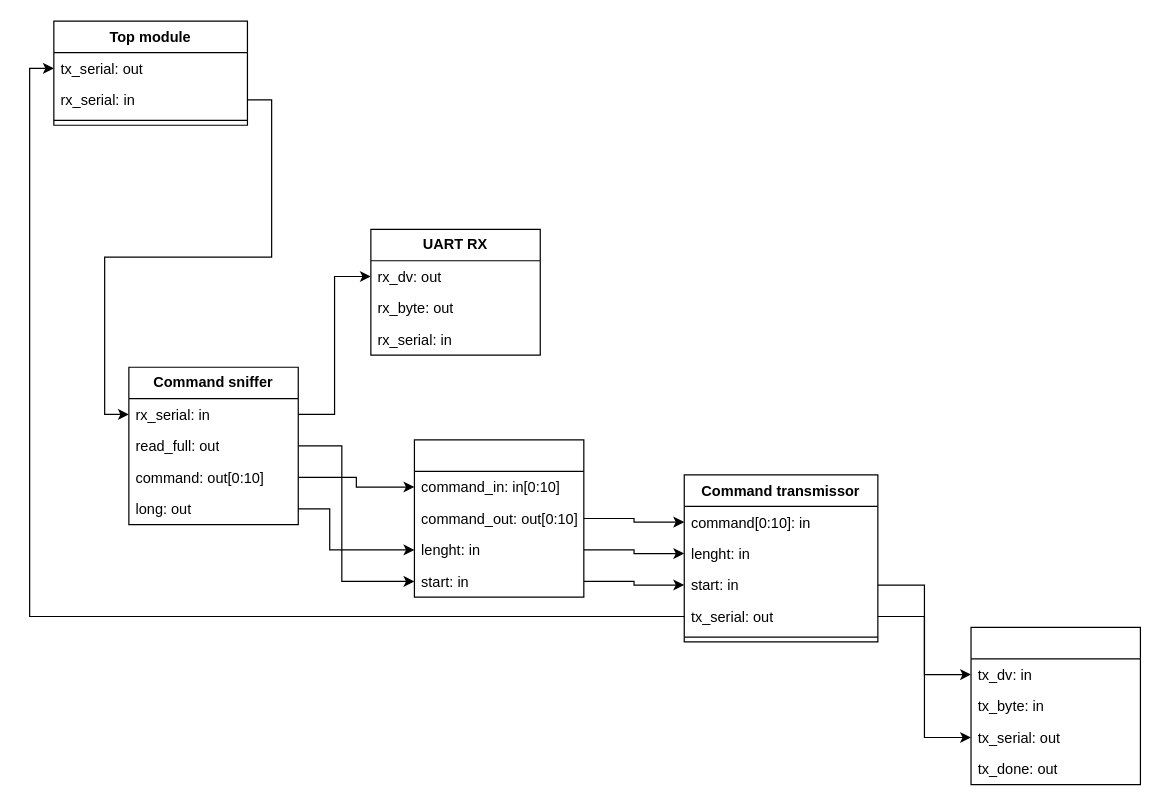
The diagram is 1162 pixels wide and 809 high, and some of its shapes have lost their labels. The box of each missing label's shape, as (x1, y1, x2, y2) in pixels:
Command modifier: (413, 439, 584, 597)
UART TX: (970, 626, 1140, 785)
